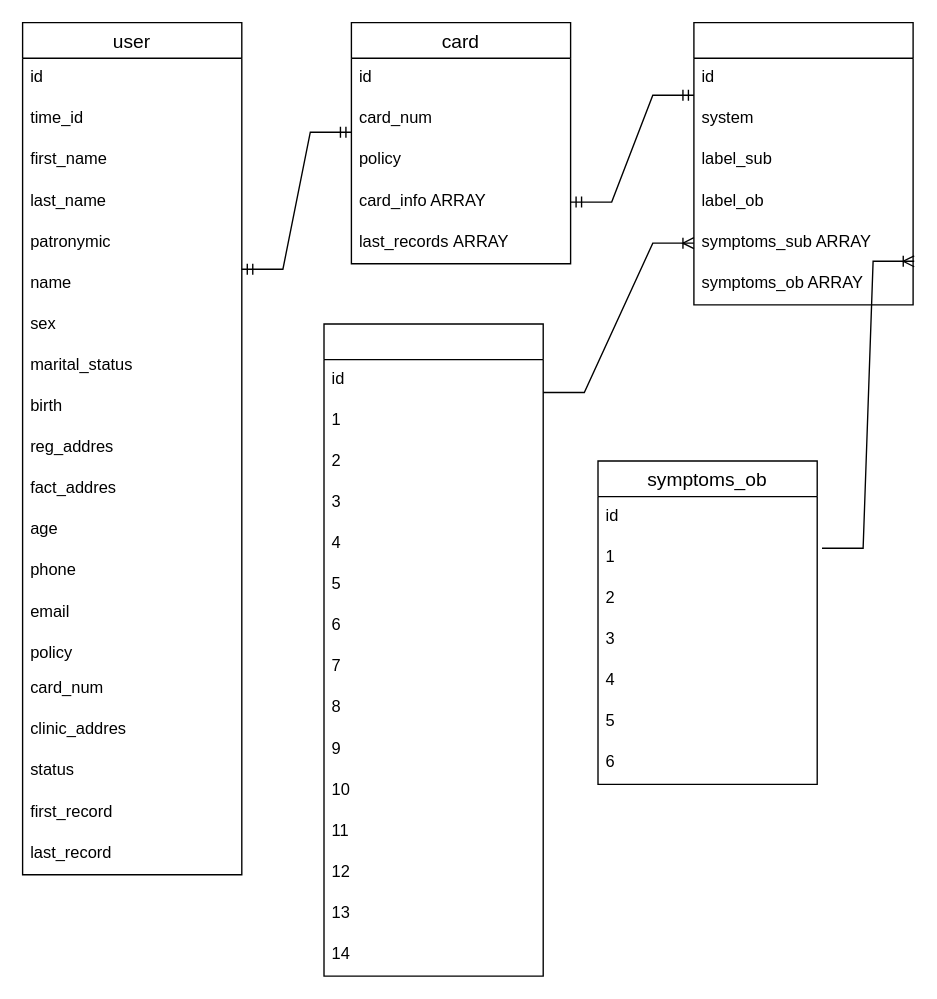
Some shapes in this 937 by 999 pixel diagram are drawn without their labels. Each missing label, with the box of its shape:
card_info: (693, 21, 913, 305)
symptoms_sub: (323, 323, 543, 976)
